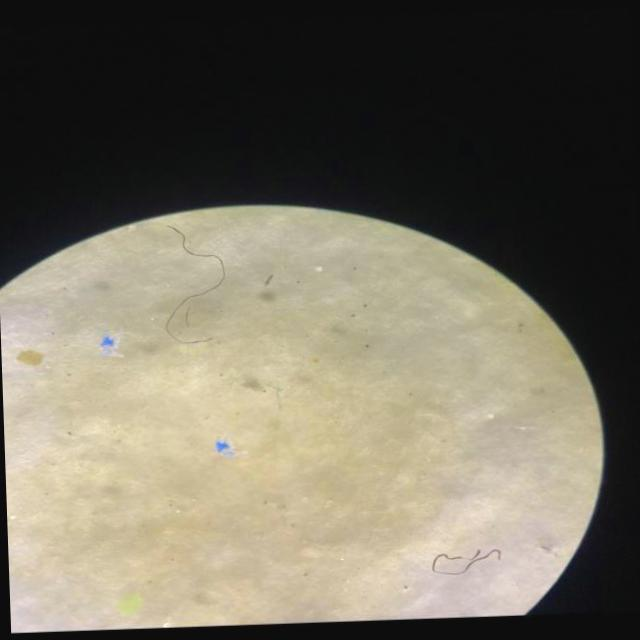fiber: (165, 224, 225, 343), (432, 548, 503, 575)
film: (104, 333, 119, 355), (216, 451, 237, 456)
fragment: (17, 349, 43, 366), (119, 595, 142, 614)
pellet: (486, 413, 493, 418), (316, 266, 322, 271)
